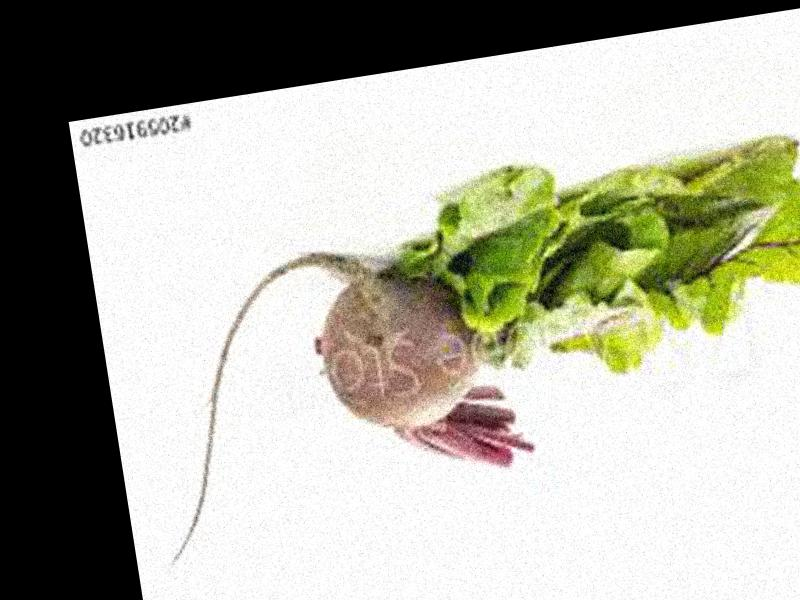Beet: (119, 222, 549, 571)
